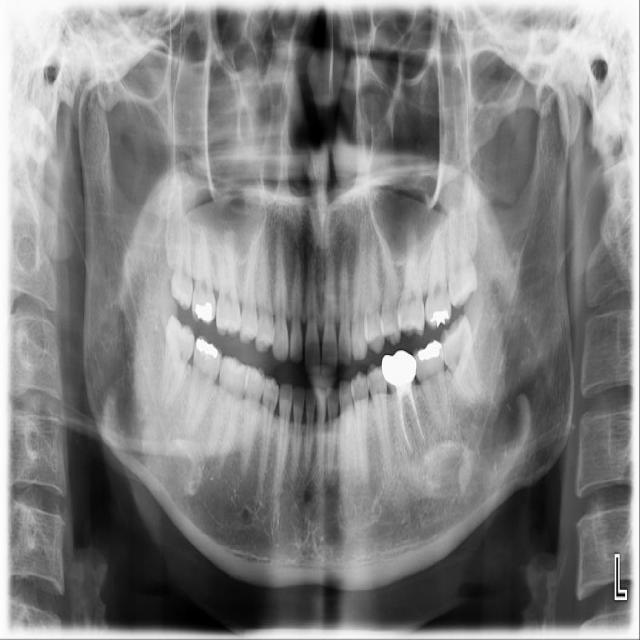3M ESPE Implant: (167, 208, 204, 310)
52: (406, 335, 449, 381), (380, 348, 418, 395), (191, 331, 224, 378), (191, 283, 216, 328), (426, 289, 453, 330)
73: (599, 548, 601, 554)
BioHorizons Implant: (426, 218, 452, 327)
BioLife Implant: (440, 201, 480, 311)
Biomet 3i Implant: (433, 311, 486, 409)
Blue Sky Bio Implant: (410, 337, 454, 444)
Caries: (192, 218, 216, 324)
Implant: (183, 332, 227, 437)
Keystone Dental Implant: (157, 312, 200, 410)
